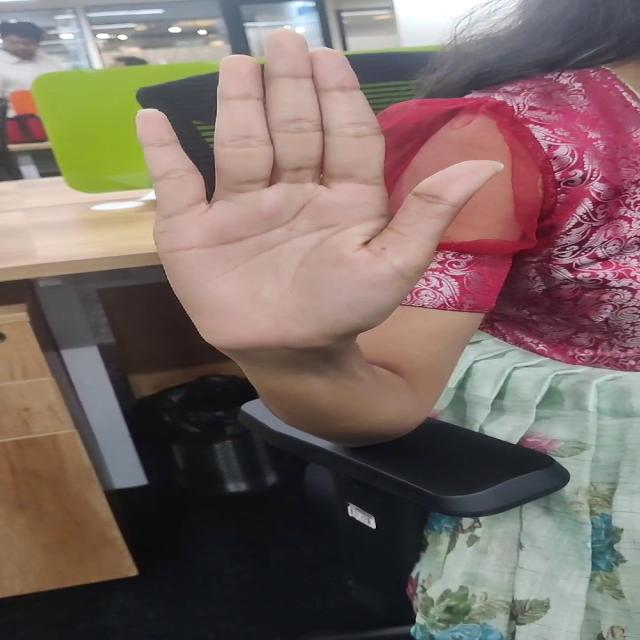no-gloves: (123, 19, 510, 361)
